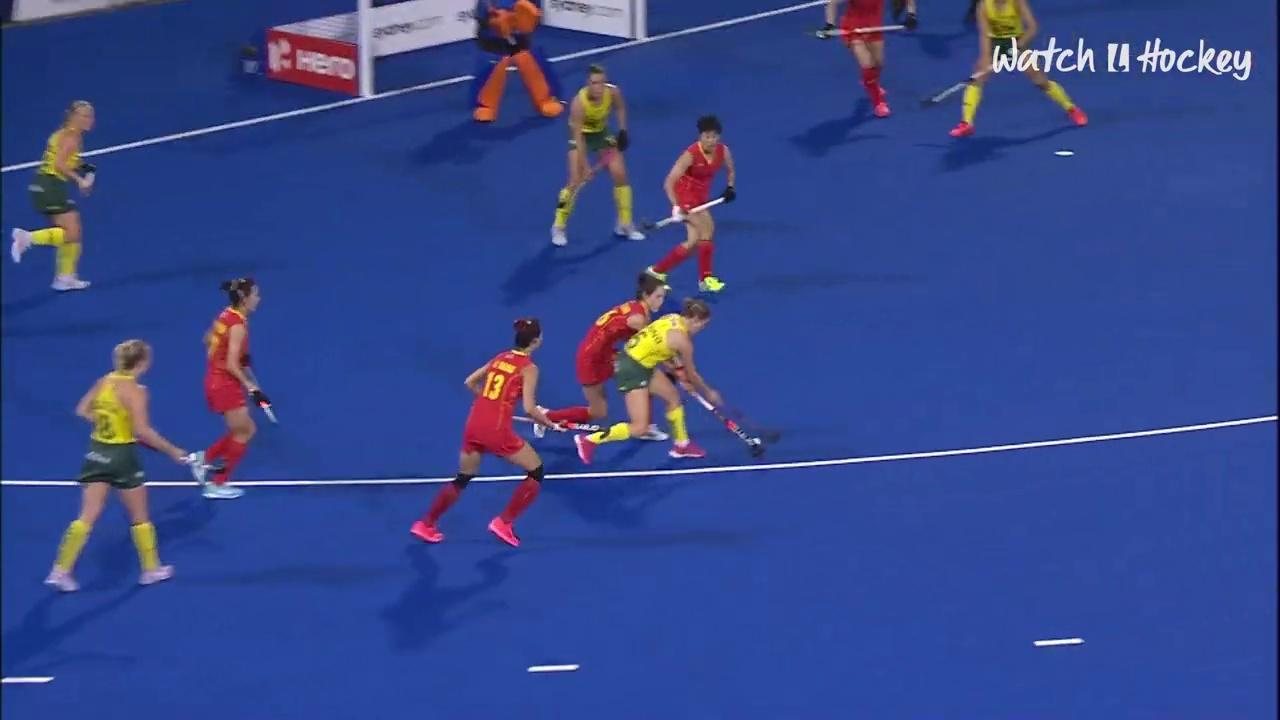ball: (747, 424, 770, 459)
